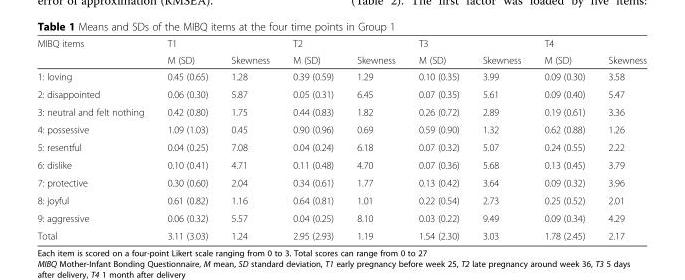table: (36, 37, 645, 241)
table column: (36, 37, 155, 241), (280, 37, 344, 241), (406, 37, 470, 241), (531, 37, 595, 241), (155, 37, 218, 241), (218, 37, 280, 241), (344, 37, 406, 241), (470, 37, 531, 241), (595, 37, 645, 241)
table column header: (36, 37, 645, 67)
table row: (36, 67, 645, 85), (36, 102, 645, 120), (36, 120, 645, 138), (36, 155, 645, 173), (36, 173, 645, 191), (36, 208, 645, 226), (36, 85, 645, 102), (36, 138, 645, 155), (36, 191, 645, 208), (36, 51, 645, 67), (36, 226, 645, 241), (36, 37, 645, 51)
table spanning cell: (36, 37, 155, 67), (280, 37, 344, 67), (406, 37, 470, 67), (531, 37, 595, 67), (155, 37, 218, 67), (218, 37, 280, 67), (344, 37, 406, 67), (470, 37, 531, 67), (595, 37, 645, 67)
